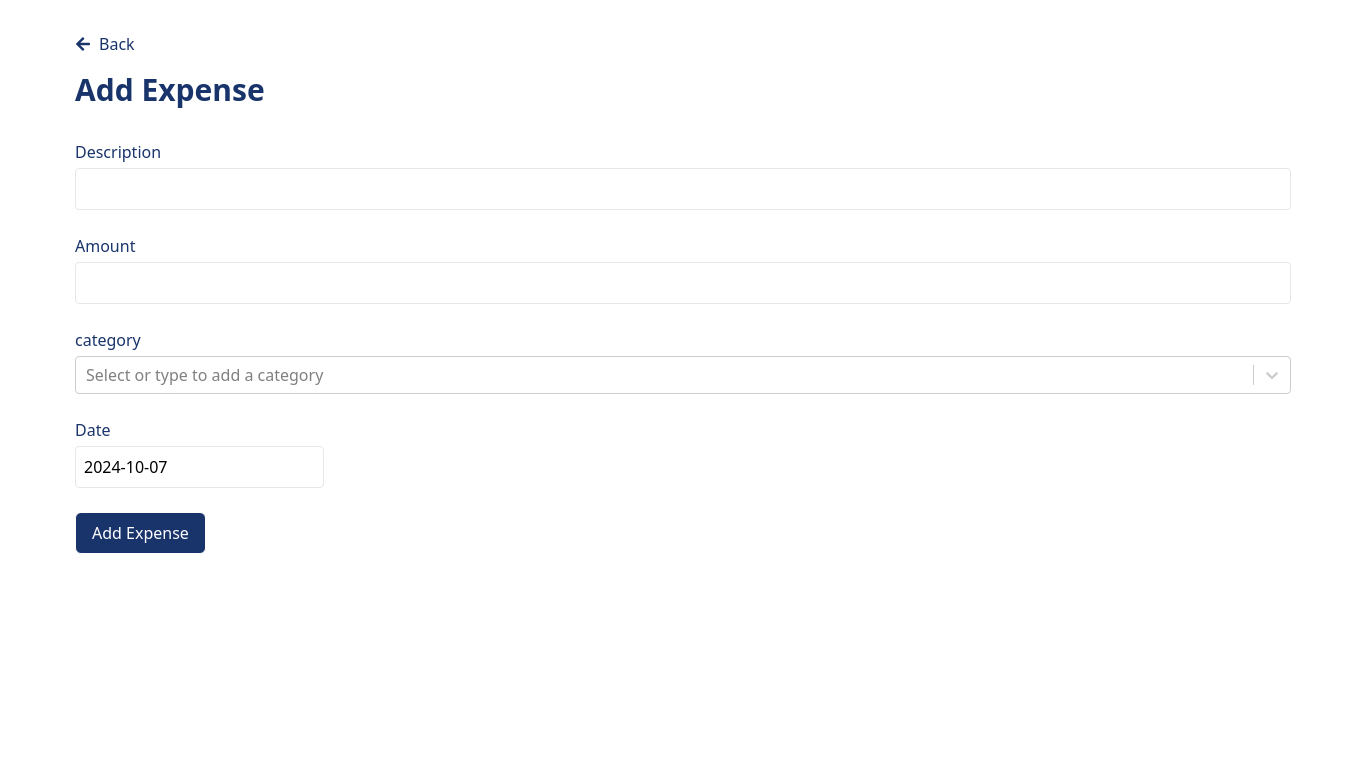
Test: ExpenseForm › should display validation errors when form is submitted empty
The width and height of the screenshot is (1366, 768).
Click the button "Add Expense".
click(140, 533)  # box x1=75 y1=512 x2=206 y2=554
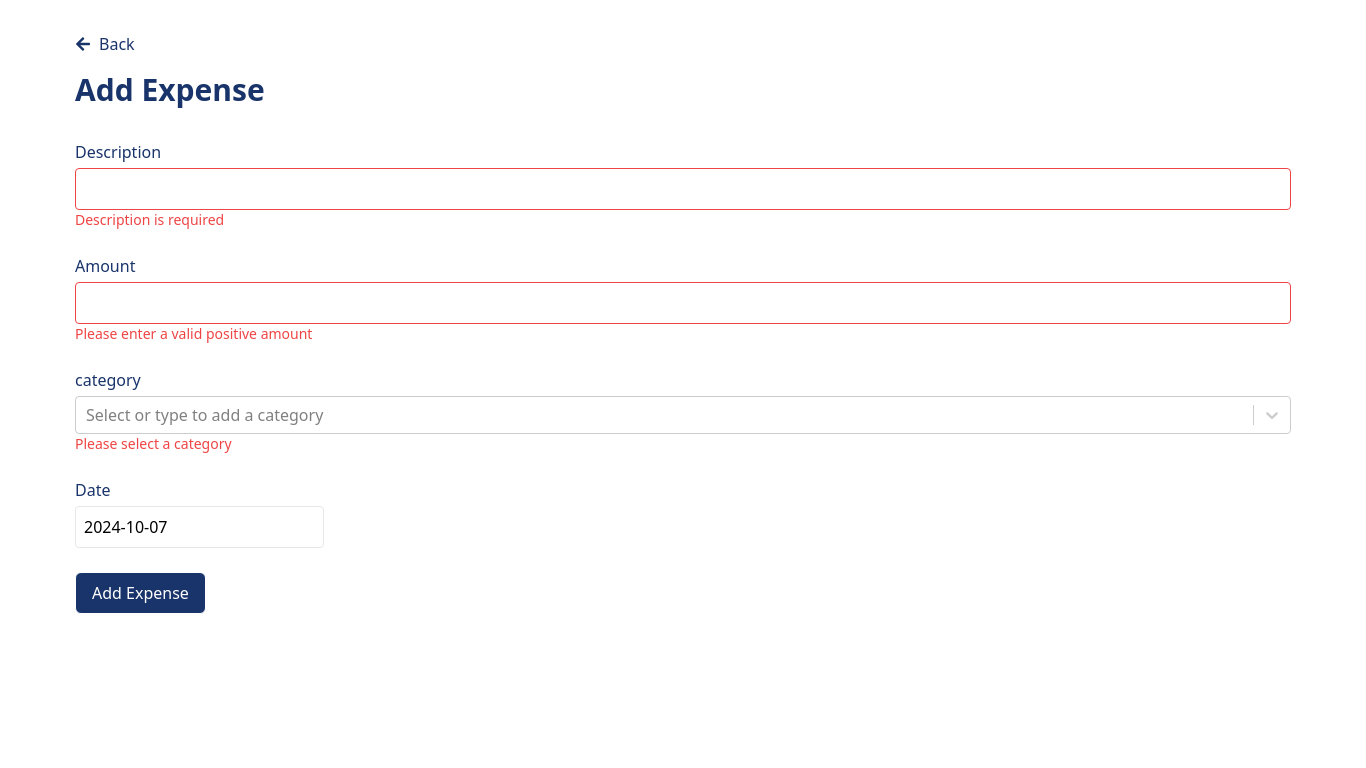
expect the text "Description is required" is shown: met, box x1=75 y1=210 x2=224 y2=229
expect the text "Please enter a valid positive amount" is shown: met, box x1=75 y1=324 x2=312 y2=343
expect the text "Please select a category" is shown: met, box x1=75 y1=434 x2=232 y2=453
